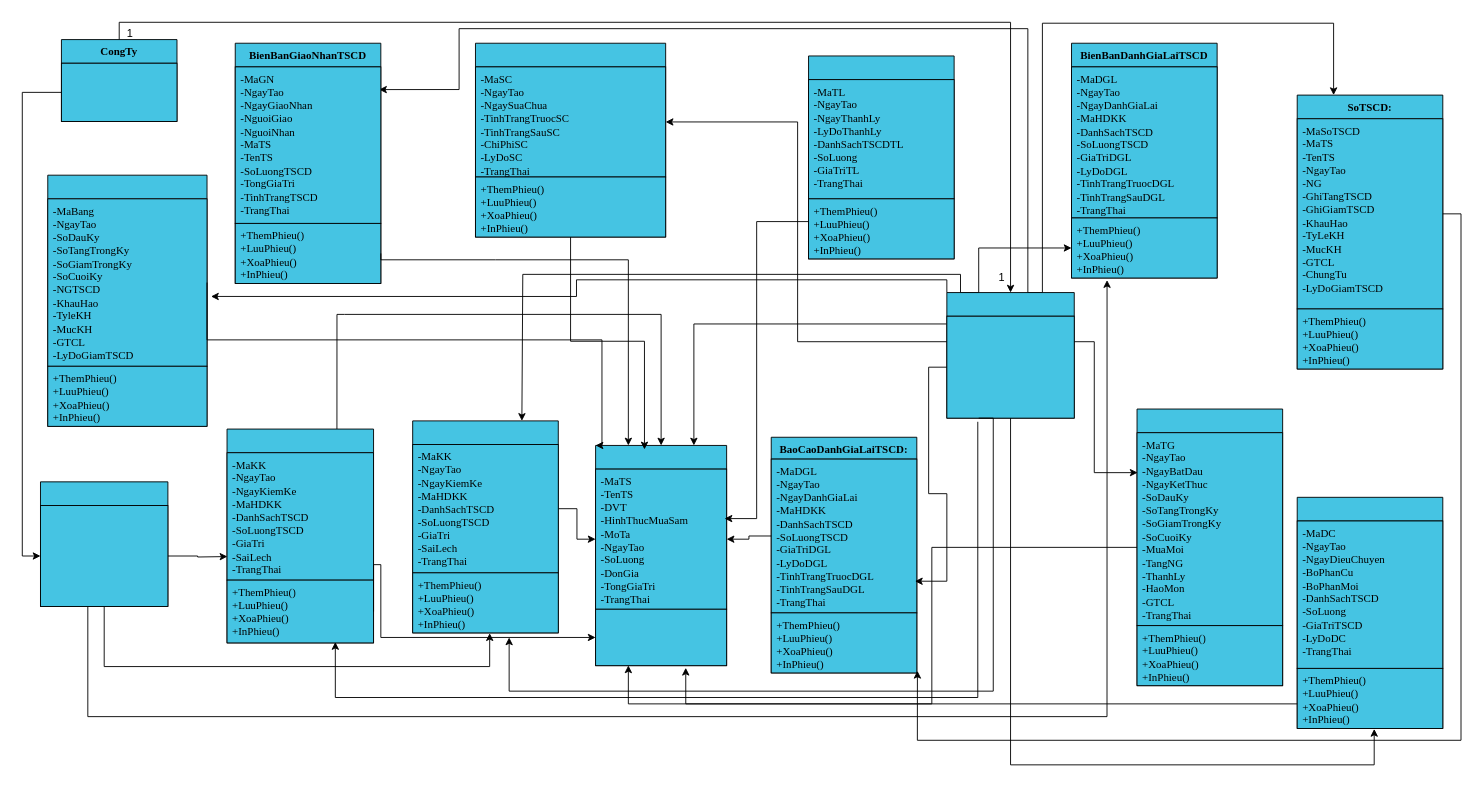
The diagram is 1484 pixels wide and 788 high, and some of its shapes have lost their labels. Each missing label, with the box of its shape:
+ThemTaiSan() +XoaTaiSan() +LuuTaiSan(): (595, 608, 727, 666)
-MaHDKK -TenHD -NgayTao -ThanhVien -SoLuongTV -MucTieuKK -TrangThai: (40, 505, 168, 607)
-MaKT -HoTen -ChucVu -Email -SDT -NgayLam: (946, 315, 1074, 418)
-TenCongTy -DiaChiCty -MaSoThue -SDTCT: (61, 62, 177, 121)
BangTinhVaPhanBoKHTSCD:: (47, 174, 207, 426)
BaoCaoKiemKeTSCD:: (412, 420, 558, 633)
BaoCaoTangGiamTSCD:: (1136, 408, 1283, 686)
BienBanKiemKeTSCD: (226, 428, 374, 643)
BienBanSuaChuaTSCD: (475, 42, 666, 237)
BienBanThanhLyTSCD: (808, 55, 954, 259)
DanhMucTSCD: (595, 445, 727, 666)
HoiDongKiemKe: (40, 481, 168, 607)
KeToanTSCD: (946, 292, 1074, 418)
PhieuDieuChuyenTSCD:: (1296, 496, 1443, 728)
